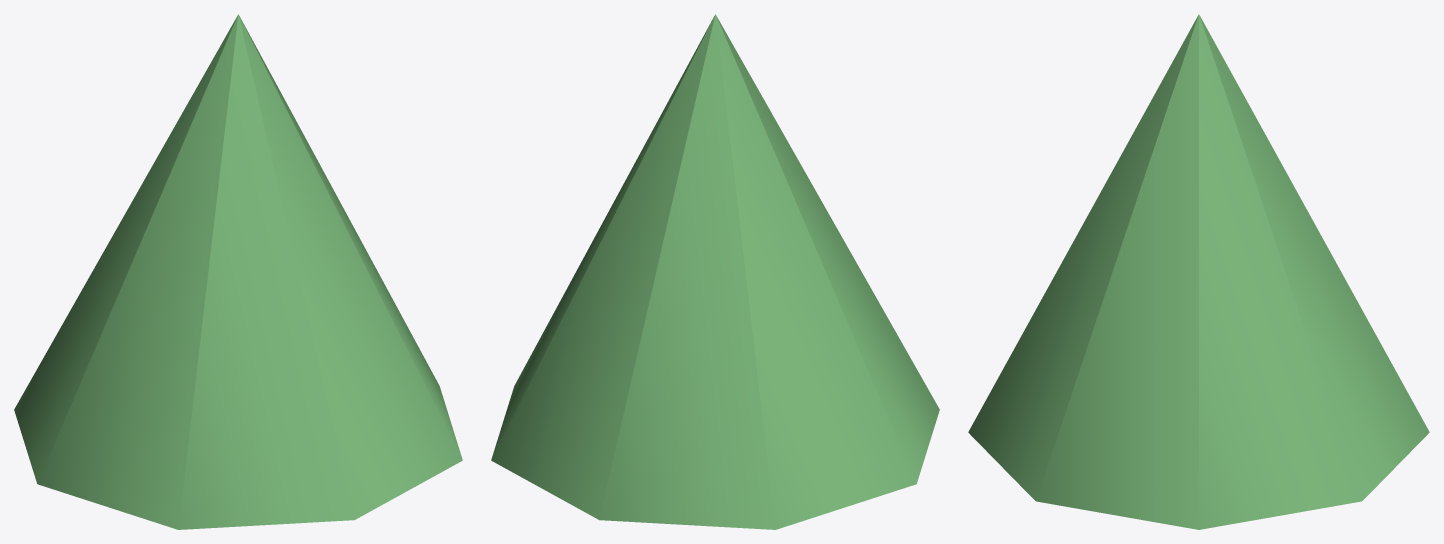
3 renders of one model, left to right at view 1: azimuth 30°, elevation 25°; view 2: azimuth 150°, elevation 25°; view 3: azimuth 270°, elevation 25°, orthographic.
Size of the model in its own units: 2 by 2 by 2.
